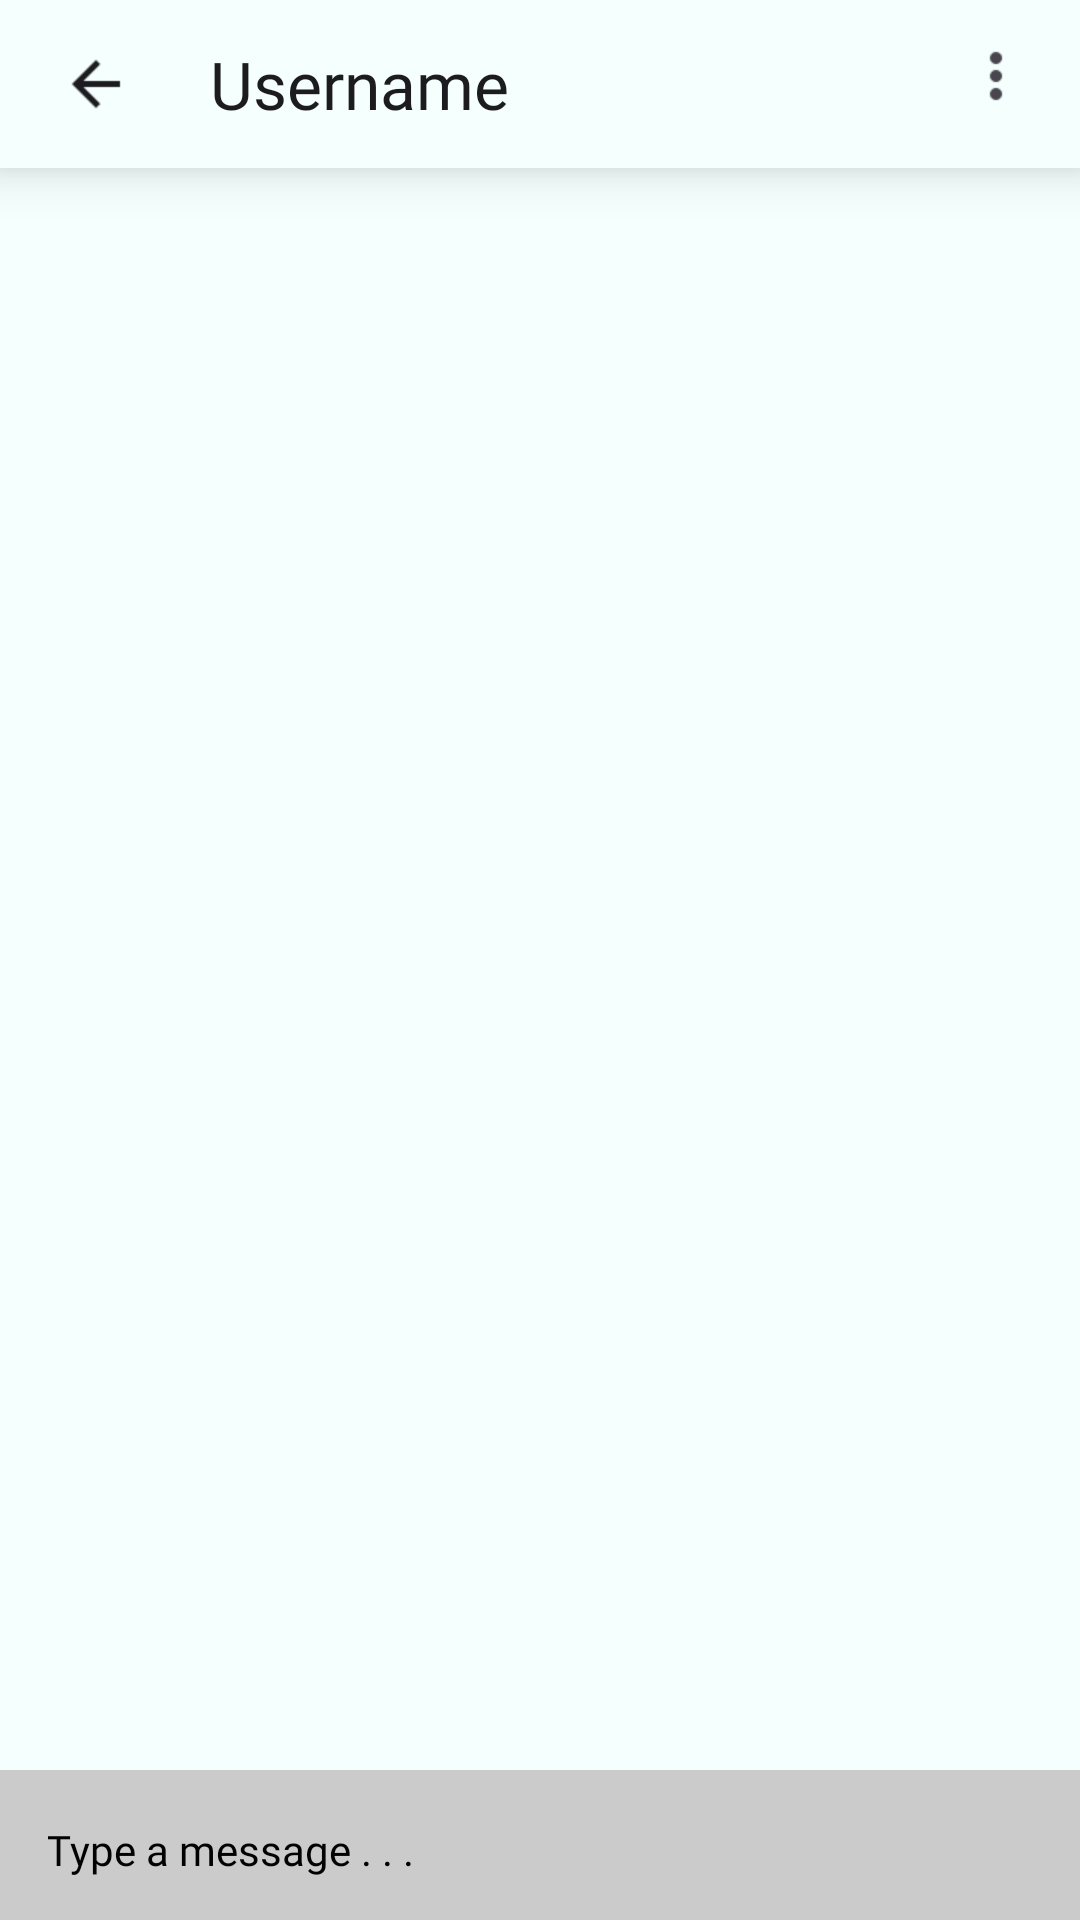

Icons on this 1080×1920 Android screen, each with the point to tap as (x=x, y=y):
back: (x=96, y=84)
menu: (x=996, y=76)
